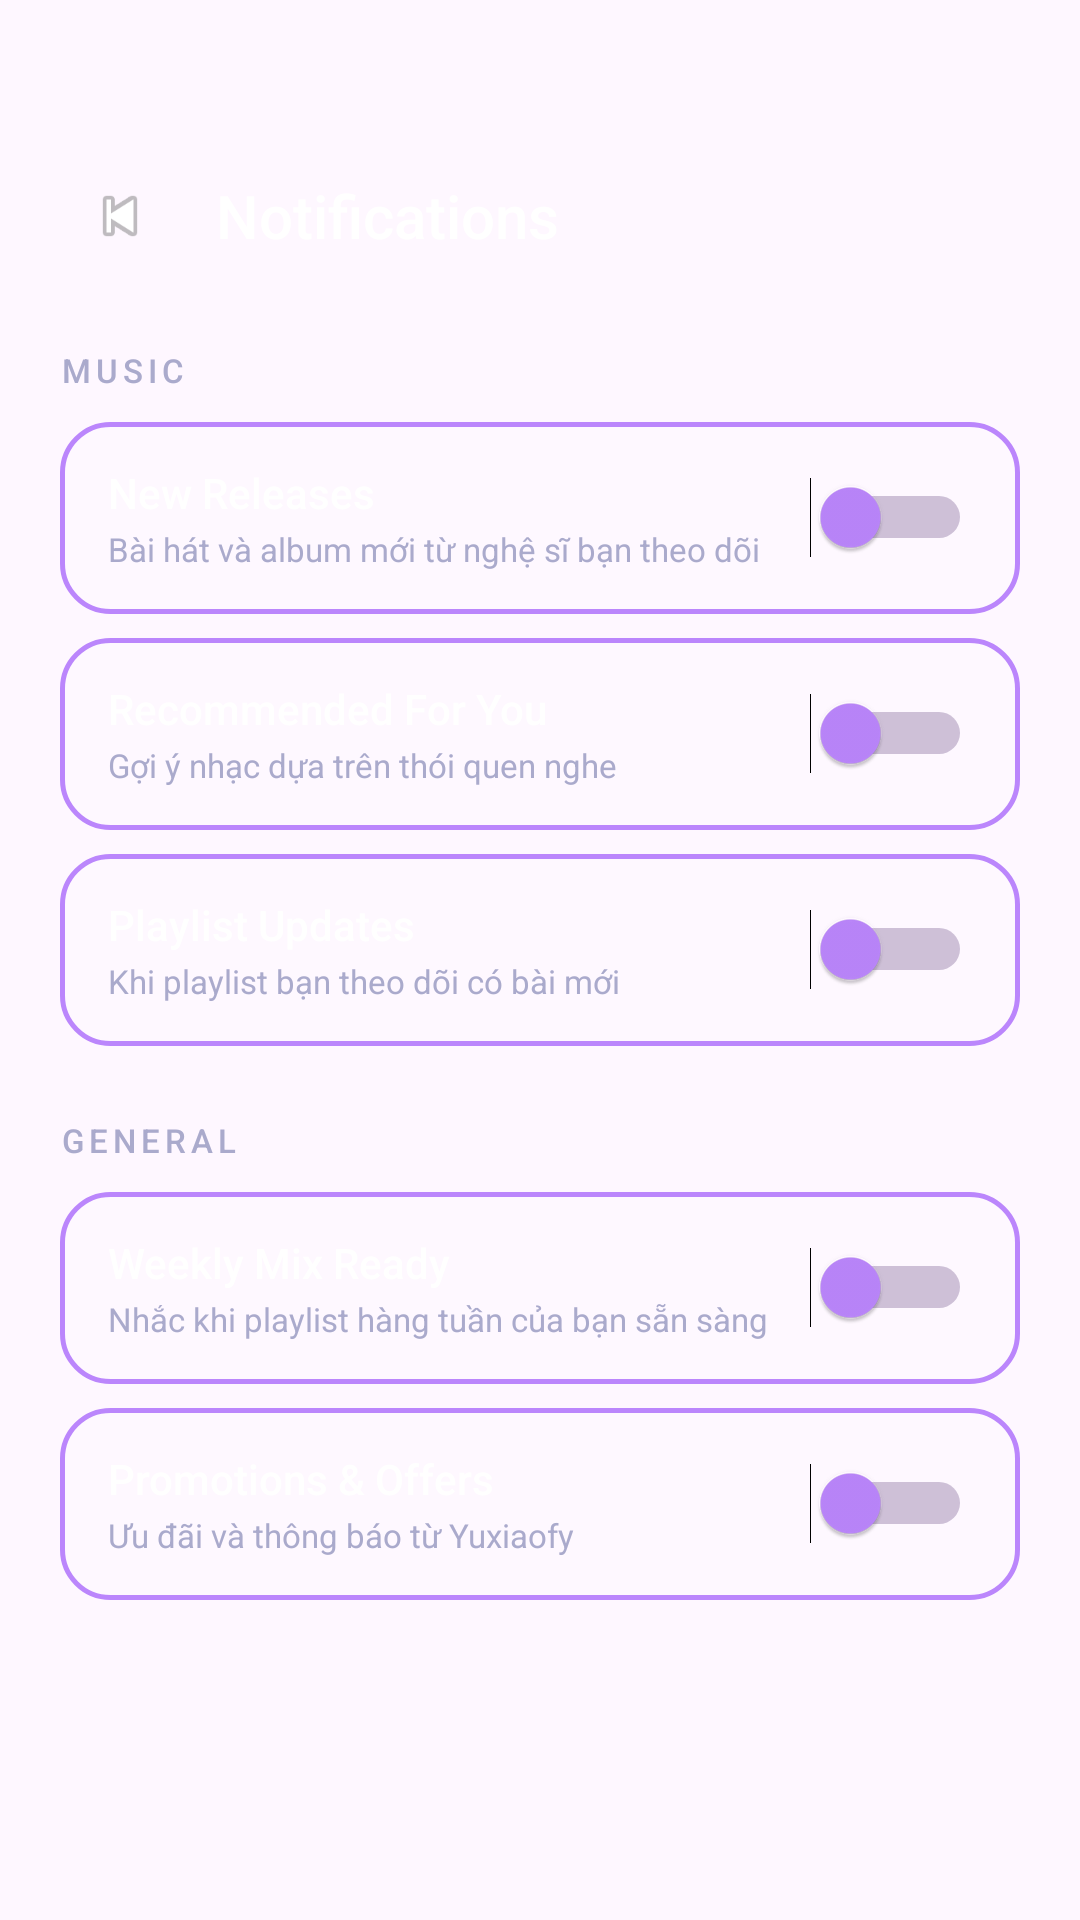

Locate icon controls on the screen. Image size 1080×1920, boxes as bbox=[x1, y1, x2, y2].
previous: bbox=[103, 196, 137, 236]
